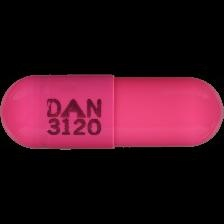55700-358: (0, 0, 224, 224)
